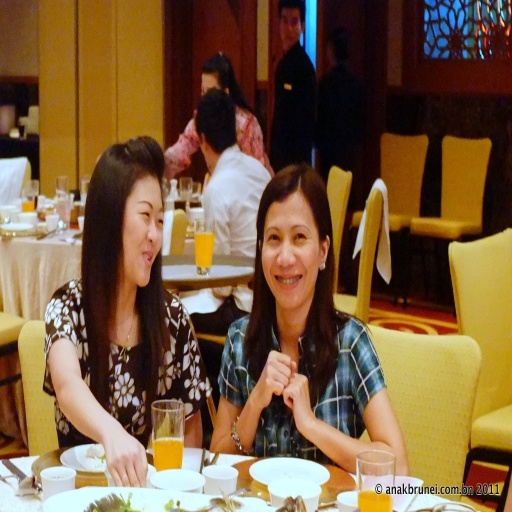hand: (103, 425, 149, 485), (254, 350, 296, 408), (282, 369, 312, 431)
